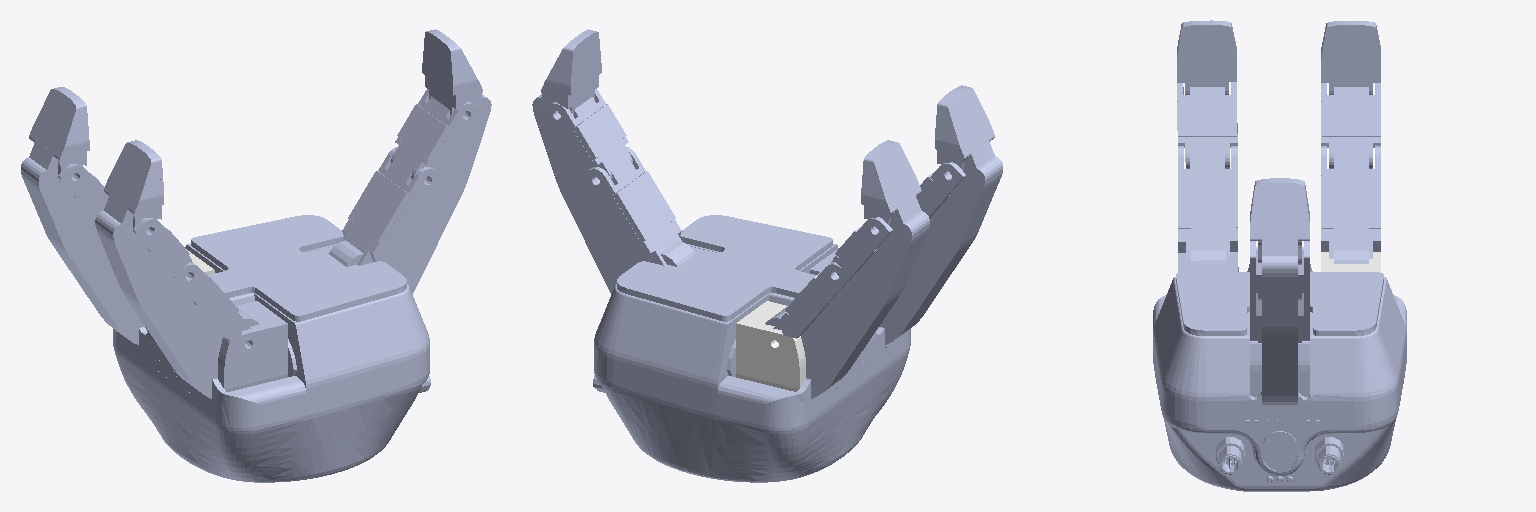
robot.urdf — 3fripper:
<?xml version="1.0" encoding="utf-8"?>
<!-- This URDF was automatically created by SolidWorks to URDF Exporter! Originally created by [author] ([email redacted]) 
     Commit Version: 1.6.0-1-g15f4949  Build Version: 1.6.7594.29634
     For more information, please see http://wiki.ros.org/sw_urdf_exporter -->
<robot
  name="3fripper">
  <link
    name="base_link">
    <inertial>
      <origin
        xyz="0.041689 0.055056 0.11411"
        rpy="0 0 0" />
      <mass
        value="1.058" />
      <inertia
        ixx="0.0018228"
        ixy="-8.1542E-05"
        ixz="-1.5467E-10"
        iyy="0.00227"
        iyz="1.3844E-09"
        izz="0.0017106" />
    </inertial>
    <visual>
      <origin
        xyz="0 0 0"
        rpy="0 0 0" />
      <geometry>
        <mesh
          filename="meshes/base_link.STL" />
      </geometry>
      <material
        name="">
        <color
          rgba="0.79216 0.81961 0.93333 1" />
      </material>
    </visual>
    <collision>
      <origin
        xyz="0 0 0"
        rpy="0 0 0" />
      <geometry>
        <mesh
          filename="meshes/base_link.STL" />
      </geometry>
    </collision>
  </link>
  <link
    name="L11">
    <inertial>
      <origin
        xyz="0.0018545 0.0068186 0"
        rpy="0 0 0" />
      <mass
        value="0.046343" />
      <inertia
        ixx="9.6608E-06"
        ixy="4.7762E-07"
        ixz="5.3767E-22"
        iyy="9.9963E-06"
        iyz="7.0807E-22"
        izz="1.2847E-05" />
    </inertial>
    <visual>
      <origin
        xyz="0 0 0"
        rpy="0 0 0" />
      <geometry>
        <mesh
          filename="meshes/L11.STL" />
      </geometry>
      <material
        name="">
        <color
          rgba="0.79216 0.81961 0.93333 1" />
      </material>
    </visual>
    <collision>
      <origin
        xyz="0 0 0"
        rpy="0 0 0" />
      <geometry>
        <mesh
          filename="meshes/L11.STL" />
      </geometry>
    </collision>
  </link>
  <joint
    name="J11"
    type="revolute">
    <origin
      xyz="0 -0.15062 0.073142"
      rpy="1.5788 0 0" />
    <parent
      link="base_link" />
    <child
      link="L11" />
    <axis
      xyz="1 0 0" />
    <limit
      lower="0"
      upper="0"
      effort="0"
      velocity="0" />
  </joint>
  <link
    name="L12">
    <inertial>
      <origin
        xyz="-0.023964 0.015314 8.3267E-17"
        rpy="0 0 0" />
      <mass
        value="0.070521" />
      <inertia
        ixx="3.7728E-05"
        ixy="1.6893E-05"
        ixz="1.2639E-20"
        iyy="2.2309E-05"
        iyz="-1.6636E-20"
        izz="5.4163E-05" />
    </inertial>
    <visual>
      <origin
        xyz="0 0 0"
        rpy="0 0 0" />
      <geometry>
        <mesh
          filename="meshes/L12.STL" />
      </geometry>
      <material
        name="">
        <color
          rgba="0.79216 0.81961 0.93333 1" />
      </material>
    </visual>
    <collision>
      <origin
        xyz="0 0 0"
        rpy="0 0 0" />
      <geometry>
        <mesh
          filename="meshes/L12.STL" />
      </geometry>
    </collision>
  </link>
  <joint
    name="J12"
    type="revolute">
    <origin
      xyz="-0.0046766 0.021514 0"
      rpy="0 0 0.034067" />
    <parent
      link="L11" />
    <child
      link="L12" />
    <axis
      xyz="0 0 1" />
    <limit
      lower="0"
      upper="0"
      effort="0"
      velocity="0" />
  </joint>
  <link
    name="L13">
    <inertial>
      <origin
        xyz="-0.0144058063948316 0.00639543303842466 5.55111512312578E-17"
        rpy="0 0 0" />
      <mass
        value="0.038951903744886" />
      <inertia
        ixx="1.21053703906769E-05"
        ixy="3.32347055325231E-06"
        ixz="1.28337072037602E-20"
        iyy="5.96987766867342E-06"
        iyz="-2.94840257538401E-20"
        izz="1.45789941902629E-05" />
    </inertial>
    <visual>
      <origin
        xyz="0 0 0"
        rpy="0 0 0" />
      <geometry>
        <mesh
          filename="meshes/L13.STL" />
      </geometry>
      <material
        name="">
        <color
          rgba="0.792156862745098 0.819607843137255 0.933333333333333 1" />
      </material>
    </visual>
    <collision>
      <origin
        xyz="0 0 0"
        rpy="0 0 0" />
      <geometry>
        <mesh
          filename="meshes/L13.STL" />
      </geometry>
    </collision>
  </link>
  <joint
    name="J13"
    type="revolute">
    <origin
      xyz="-0.03278 0.046815 0"
      rpy="0 0 0" />
    <parent
      link="L12" />
    <child
      link="L13" />
    <axis
      xyz="0 0 1" />
    <limit
      lower="0"
      upper="0"
      effort="0"
      velocity="0" />
  </joint>
  <link
    name="L14">
    <inertial>
      <origin
        xyz="-0.0016613 0.0094505 6.1197E-05"
        rpy="0 0 0" />
      <mass
        value="0.019133" />
      <inertia
        ixx="4.5349E-06"
        ixy="-8.6511E-07"
        ixz="2.7697E-10"
        iyy="1.7209E-06"
        iyz="1.1324E-08"
        izz="4.1875E-06" />
    </inertial>
    <visual>
      <origin
        xyz="0 0 0"
        rpy="0 0 0" />
      <geometry>
        <mesh
          filename="meshes/L14.STL" />
      </geometry>
      <material
        name="">
        <color
          rgba="0.79216 0.81961 0.93333 1" />
      </material>
    </visual>
    <collision>
      <origin
        xyz="0 0 0"
        rpy="0 0 0" />
      <geometry>
        <mesh
          filename="meshes/L14.STL" />
      </geometry>
    </collision>
  </link>
  <joint
    name="J14"
    type="revolute">
    <origin
      xyz="-0.021853 0.03121 0"
      rpy="0 0 -0.034067" />
    <parent
      link="L13" />
    <child
      link="L14" />
    <axis
      xyz="0 0 1" />
    <limit
      lower="0"
      upper="0"
      effort="0"
      velocity="0" />
  </joint>
  <link
    name="L21">
    <inertial>
      <origin
        xyz="0.0236314028913343 0.00681861652312338 1.38777878078145E-17"
        rpy="0 0 0" />
      <mass
        value="0.0463426508555603" />
      <inertia
        ixx="9.66080088910945E-06"
        ixy="-4.77622485008512E-07"
        ixz="-9.77998113667492E-22"
        iyy="9.99626058327171E-06"
        iyz="-2.15298862767784E-21"
        izz="1.28472656650521E-05" />
    </inertial>
    <visual>
      <origin
        xyz="0 0 0"
        rpy="0 0 0" />
      <geometry>
        <mesh
          filename="meshes/L21.STL" />
      </geometry>
      <material
        name="">
        <color
          rgba="0.792156862745098 0.819607843137255 0.933333333333333 1" />
      </material>
    </visual>
    <collision>
      <origin
        xyz="0 0 0"
        rpy="0 0 0" />
      <geometry>
        <mesh
          filename="meshes/L21.STL" />
      </geometry>
    </collision>
  </link>
  <joint
    name="J21"
    type="revolute">
    <origin
      xyz="0.055356 -0.11411 0.073142"
      rpy="1.5708 0 0" />
    <parent
      link="base_link" />
    <child
      link="L21" />
    <axis
      xyz="1 0 0" />
    <limit
      lower="0"
      upper="0"
      effort="0"
      velocity="0" />
  </joint>
  <link
    name="L22">
    <inertial>
      <origin
        xyz="0.0239644403212336 0.0153142788715234 5.55111512312578E-17"
        rpy="0 0 0" />
      <mass
        value="0.0705213059693818" />
      <inertia
        ixx="3.77276430862471E-05"
        ixy="-1.68925963007333E-05"
        ixz="3.92704645289527E-21"
        iyy="2.23090945576645E-05"
        iyz="9.24510415200553E-21"
        izz="5.4162920613054E-05" />
    </inertial>
    <visual>
      <origin
        xyz="0 0 0"
        rpy="0 0 0" />
      <geometry>
        <mesh
          filename="meshes/L22.STL" />
      </geometry>
      <material
        name="">
        <color
          rgba="0.792156862745098 0.819607843137255 0.933333333333333 1" />
      </material>
    </visual>
    <collision>
      <origin
        xyz="0 0 0"
        rpy="0 0 0" />
      <geometry>
        <mesh
          filename="meshes/L22.STL" />
      </geometry>
    </collision>
  </link>
  <joint
    name="J22"
    type="revolute">
    <origin
      xyz="0.030163 0.021514 0"
      rpy="0 0 -0.021041" />
    <parent
      link="L21" />
    <child
      link="L22" />
    <axis
      xyz="0 0 1" />
    <limit
      lower="0"
      upper="0"
      effort="0"
      velocity="0" />
  </joint>
  <link
    name="L23">
    <inertial>
      <origin
        xyz="0.0144058063948315 0.00639543303842482 4.16333634234434E-17"
        rpy="0 0 0" />
      <mass
        value="0.0389519037448861" />
      <inertia
        ixx="1.2105370390677E-05"
        ixy="-3.32347055325224E-06"
        ixz="1.37443560742018E-21"
        iyy="5.96987766867335E-06"
        iyz="2.23119017138654E-21"
        izz="1.4578994190263E-05" />
    </inertial>
    <visual>
      <origin
        xyz="0 0 0"
        rpy="0 0 0" />
      <geometry>
        <mesh
          filename="meshes/L23.STL" />
      </geometry>
      <material
        name="">
        <color
          rgba="0.792156862745098 0.819607843137255 0.933333333333333 1" />
      </material>
    </visual>
    <collision>
      <origin
        xyz="0 0 0"
        rpy="0 0 0" />
      <geometry>
        <mesh
          filename="meshes/L23.STL" />
      </geometry>
    </collision>
  </link>
  <joint
    name="J23"
    type="revolute">
    <origin
      xyz="0.03278 0.046815 0"
      rpy="0 0 0" />
    <parent
      link="L22" />
    <child
      link="L23" />
    <axis
      xyz="0 0 1" />
    <limit
      lower="0"
      upper="0"
      effort="0"
      velocity="0" />
  </joint>
  <link
    name="L24">
    <inertial>
      <origin
        xyz="0.0016613 0.0094505 -6.1197E-05"
        rpy="0 0 0" />
      <mass
        value="0.019133" />
      <inertia
        ixx="4.5349E-06"
        ixy="8.6511E-07"
        ixz="2.7697E-10"
        iyy="1.7209E-06"
        iyz="-1.1324E-08"
        izz="4.1875E-06" />
    </inertial>
    <visual>
      <origin
        xyz="0 0 0"
        rpy="0 0 0" />
      <geometry>
        <mesh
          filename="meshes/L24.STL" />
      </geometry>
      <material
        name="">
        <color
          rgba="0.79216 0.81961 0.93333 1" />
      </material>
    </visual>
    <collision>
      <origin
        xyz="0 0 0"
        rpy="0 0 0" />
      <geometry>
        <mesh
          filename="meshes/L24.STL" />
      </geometry>
    </collision>
  </link>
  <joint
    name="J24"
    type="revolute">
    <origin
      xyz="0.021853 0.03121 0"
      rpy="0 0 0.021041" />
    <parent
      link="L23" />
    <child
      link="L24" />
    <axis
      xyz="0 0 1" />
    <limit
      lower="0"
      upper="0"
      effort="0"
      velocity="0" />
    <dynamics damping="0.0" friction="0.0"/>
  </joint>
  <link
    name="L31">
    <inertial>
      <origin
        xyz="0 0 0"
        rpy="0 0 0" />
      <mass
        value="0" />
      <inertia
        ixx="0"
        ixy="0"
        ixz="0"
        iyy="0"
        iyz="0"
        izz="0" />
    </inertial>
    <visual>
      <origin
        xyz="0 0 0"
        rpy="0 0 0" />
      <geometry>
        <mesh
          filename="meshes/L31.STL" />
      </geometry>
      <material
        name="">
        <color
          rgba="1 1 1 1" />
      </material>
    </visual>
    <collision>
      <origin
        xyz="0 0 0"
        rpy="0 0 0" />
      <geometry>
        <mesh
          filename="meshes/L31.STL" />
      </geometry>
    </collision>
  </link>
  <joint
    name="J31"
    type="revolute">
    <origin
      xyz="0 -0.077596 0.073142"
      rpy="1.5708 0 0" />
    <parent
      link="base_link" />
    <child
      link="L31" />
    <axis
      xyz="1 0 0" />
    <limit
      lower="0"
      upper="0"
      effort="0"
      velocity="0" />
  </joint>
  <link
    name="L32">
    <inertial>
      <origin
        xyz="-0.0239644403212338 0.015314278871523 -1.38777878078145E-17"
        rpy="0 0 0" />
      <mass
        value="0.070521305969382" />
      <inertia
        ixx="3.77276430862467E-05"
        ixy="1.68925963007336E-05"
        ixz="1.88882299216835E-21"
        iyy="2.23090945576651E-05"
        iyz="1.49446502698761E-21"
        izz="5.41629206130542E-05" />
    </inertial>
    <visual>
      <origin
        xyz="0 0 0"
        rpy="0 0 0" />
      <geometry>
        <mesh
          filename="meshes/L32.STL" />
      </geometry>
      <material
        name="">
        <color
          rgba="0.792156862745098 0.819607843137255 0.933333333333333 1" />
      </material>
    </visual>
    <collision>
      <origin
        xyz="0 0 0"
        rpy="0 0 0" />
      <geometry>
        <mesh
          filename="meshes/L32.STL" />
      </geometry>
    </collision>
  </link>
  <joint
    name="J32"
    type="revolute">
    <origin
      xyz="-0.0046766 0.021514 0"
      rpy="0 0 0.038634" />
    <parent
      link="L31" />
    <child
      link="L32" />
    <axis
      xyz="0 0 1" />
    <limit
      lower="0"
      upper="0"
      effort="0"
      velocity="0" />
  </joint>
  <link
    name="L33">
    <inertial>
      <origin
        xyz="-0.0144058063948313 0.00639543303842532 -5.13478148889135E-16"
        rpy="0 0 0" />
      <mass
        value="0.038951903744886" />
      <inertia
        ixx="1.2105370390677E-05"
        ixy="3.32347055325215E-06"
        ixz="-1.24454574299915E-20"
        iyy="5.96987766867325E-06"
        iyz="3.24443894636586E-20"
        izz="1.45789941902629E-05" />
    </inertial>
    <visual>
      <origin
        xyz="0 0 0"
        rpy="0 0 0" />
      <geometry>
        <mesh
          filename="meshes/L33.STL" />
      </geometry>
      <material
        name="">
        <color
          rgba="0.792156862745098 0.819607843137255 0.933333333333333 1" />
      </material>
    </visual>
    <collision>
      <origin
        xyz="0 0 0"
        rpy="0 0 0" />
      <geometry>
        <mesh
          filename="meshes/L33.STL" />
      </geometry>
    </collision>
  </link>
  <joint
    name="J33"
    type="revolute">
    <origin
      xyz="-0.03278 0.046815 0"
      rpy="0 0 0" />
    <parent
      link="L32" />
    <child
      link="L33" />
    <axis
      xyz="0 0 1" />
    <limit
      lower="0"
      upper="0"
      effort="0"
      velocity="0" />
  </joint>
  <link
    name="L34">
    <inertial>
      <origin
        xyz="-0.00166132122756223 0.00945051481566705 6.11965982343921E-05"
        rpy="0 0 0" />
      <mass
        value="0.0191332931368792" />
      <inertia
        ixx="4.53490758193262E-06"
        ixy="-8.65109624002678E-07"
        ixz="2.76967372301419E-10"
        iyy="1.72085395515192E-06"
        iyz="1.13243375505826E-08"
        izz="4.18753450310891E-06" />
    </inertial>
    <visual>
      <origin
        xyz="0 0 0"
        rpy="0 0 0" />
      <geometry>
        <mesh
          filename="meshes/L34.STL" />
      </geometry>
      <material
        name="">
        <color
          rgba="0.792156862745098 0.819607843137255 0.933333333333333 1" />
      </material>
    </visual>
    <collision>
      <origin
        xyz="0 0 0"
        rpy="0 0 0" />
      <geometry>
        <mesh
          filename="meshes/L34.STL" />
      </geometry>
    </collision>
  </link>
  <joint
    name="J34"
    type="revolute">
    <origin
      xyz="-0.021853 0.03121 0"
      rpy="0 0 -0.038634" />
    <parent
      link="L33" />
    <child
      link="L34" />
    <axis
      xyz="0 0 1" />
    <limit
      lower="0"
      upper="0"
      effort="0"
      velocity="0" />
  </joint>
</robot>

--- Facts derived from the render (not from the file) ---
3 views of the same robot in one strip: view 1: azimuth 30°, elevation 25°; view 2: azimuth 150°, elevation 25°; view 3: azimuth 270°, elevation 25° (orthographic).
Model 3fripper with 13 links and 12 joints (12 revolute), rooted at base_link, posed all joints at 0.
Visible links, largest first — view 1: base_link, L22, L12, L23, L34, L14, L13, L11, L32, L33, L24, L21; view 2: base_link, L22, L32, L23, L34, L14, L31, L13, L33, L12, L24, L21; view 3: base_link, L12, L32, L24, L13, L33, L14, L34, L22, L23, L21, L31 (+1 smaller).
Boxes of the visible links, x1,y1,x2,y2 form: base_link: (113, 215, 430, 482); L22: (329, 145, 469, 294); L12: (125, 260, 258, 398); L23: (391, 89, 489, 227); L34: (21, 87, 89, 204); L14: (95, 140, 163, 258); L13: (97, 218, 192, 322); L11: (218, 301, 287, 391); L32: (50, 206, 144, 344); L33: (22, 164, 108, 269); L24: (422, 29, 491, 118); L21: (304, 246, 358, 271); base_link: (593, 215, 910, 482); L22: (554, 143, 694, 294); L32: (765, 260, 899, 398); L23: (534, 89, 632, 226); L34: (861, 140, 929, 258); L14: (935, 85, 1002, 203); L31: (735, 301, 805, 391); L13: (913, 162, 1001, 268); L33: (831, 217, 927, 320); L12: (879, 205, 972, 344); L24: (532, 29, 601, 140); L21: (665, 246, 719, 271); base_link: (1153, 264, 1406, 491); L12: (1178, 146, 1237, 263); L32: (1321, 146, 1380, 263); L24: (1250, 178, 1309, 275); L13: (1177, 82, 1237, 168); L33: (1321, 83, 1380, 168); L14: (1177, 20, 1236, 94); L34: (1321, 21, 1380, 94); L22: (1250, 293, 1309, 406); L23: (1250, 241, 1309, 332); L21: (1250, 341, 1309, 396); L31: (1321, 252, 1380, 272).
Size in the robot's own frame: 0.2395 by 0.1302 by 0.1976 metres.
13 mesh visuals loaded from 13 distinct referenced files (13 binary STL).